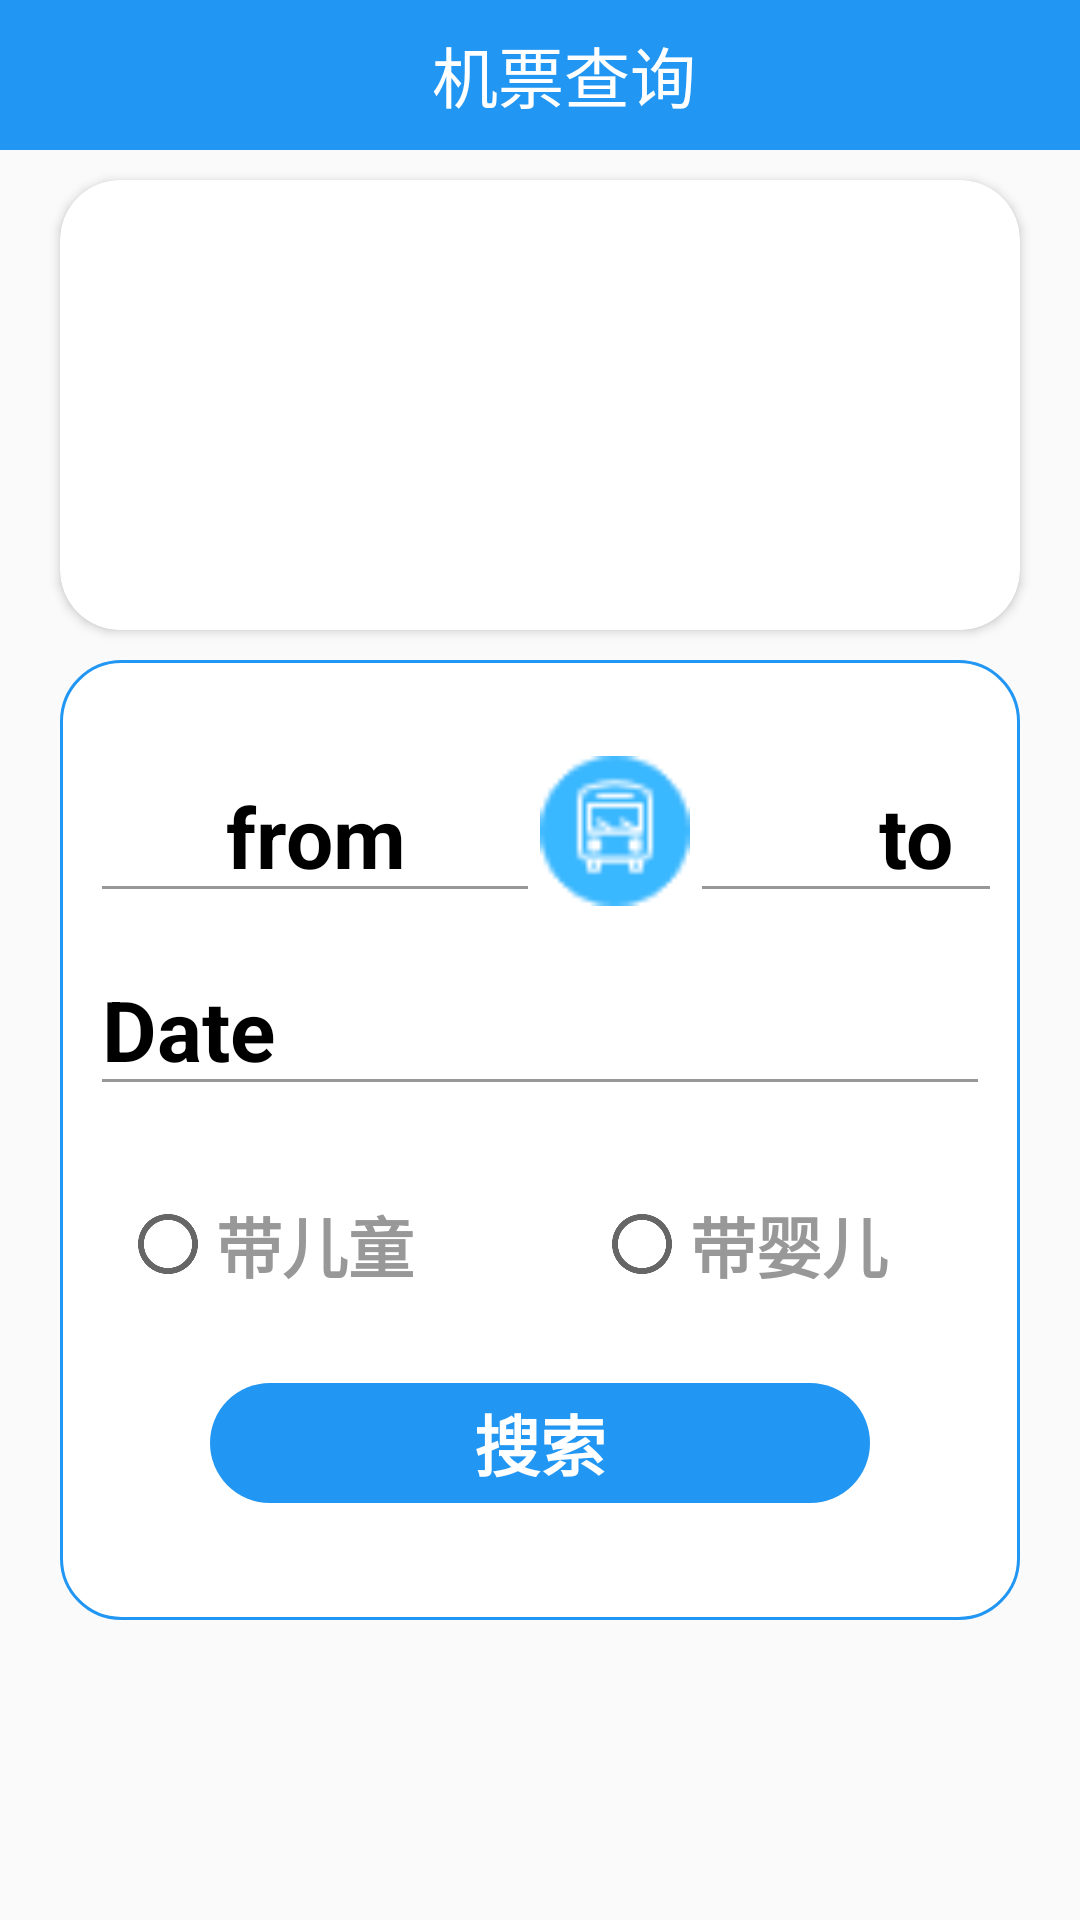

Where icons sit on this 1080 × 1920 app screen, as (x1, y1, x2, y2):
bus: (540, 756, 690, 906)
